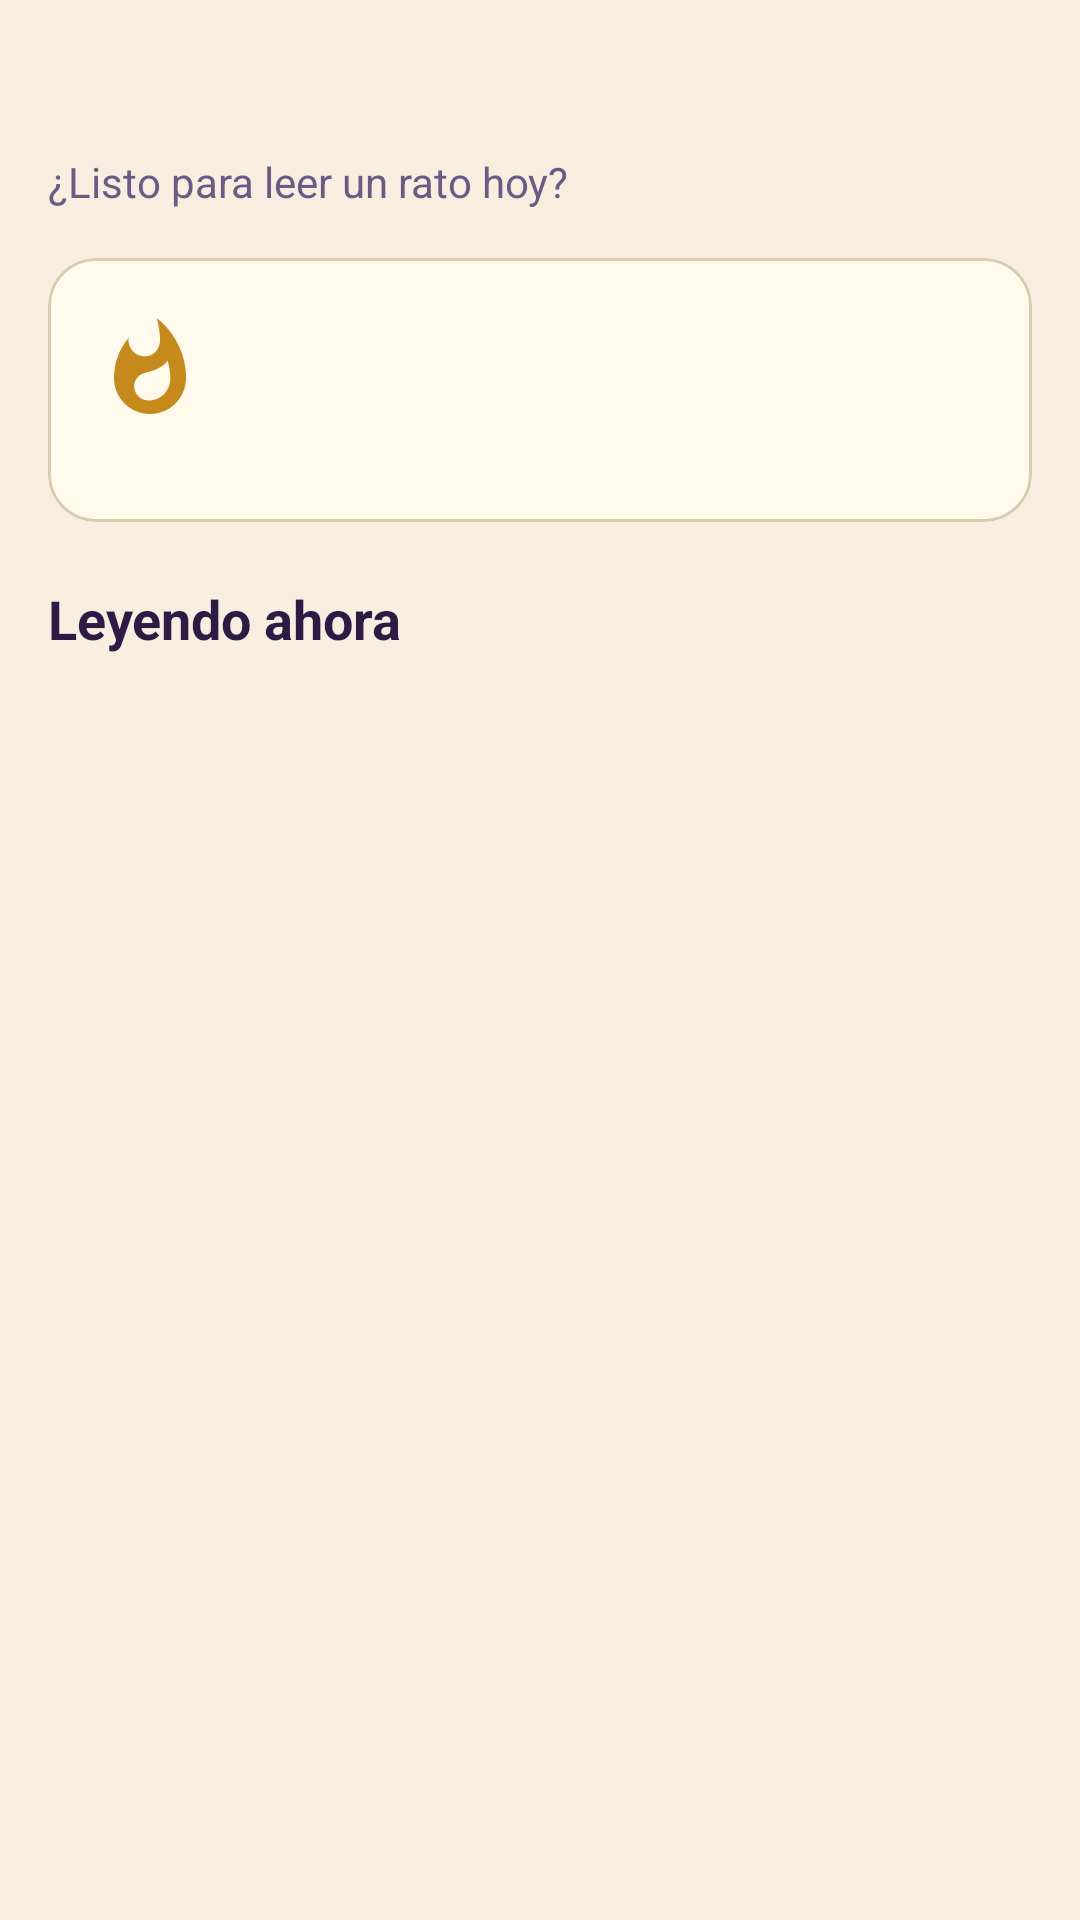

Screen size 1080 x 1920. Icon name, then its box in pixels as bbox=(x1, y1, x2, y2):
Racha de lectura: bbox=(114, 318, 186, 414)
